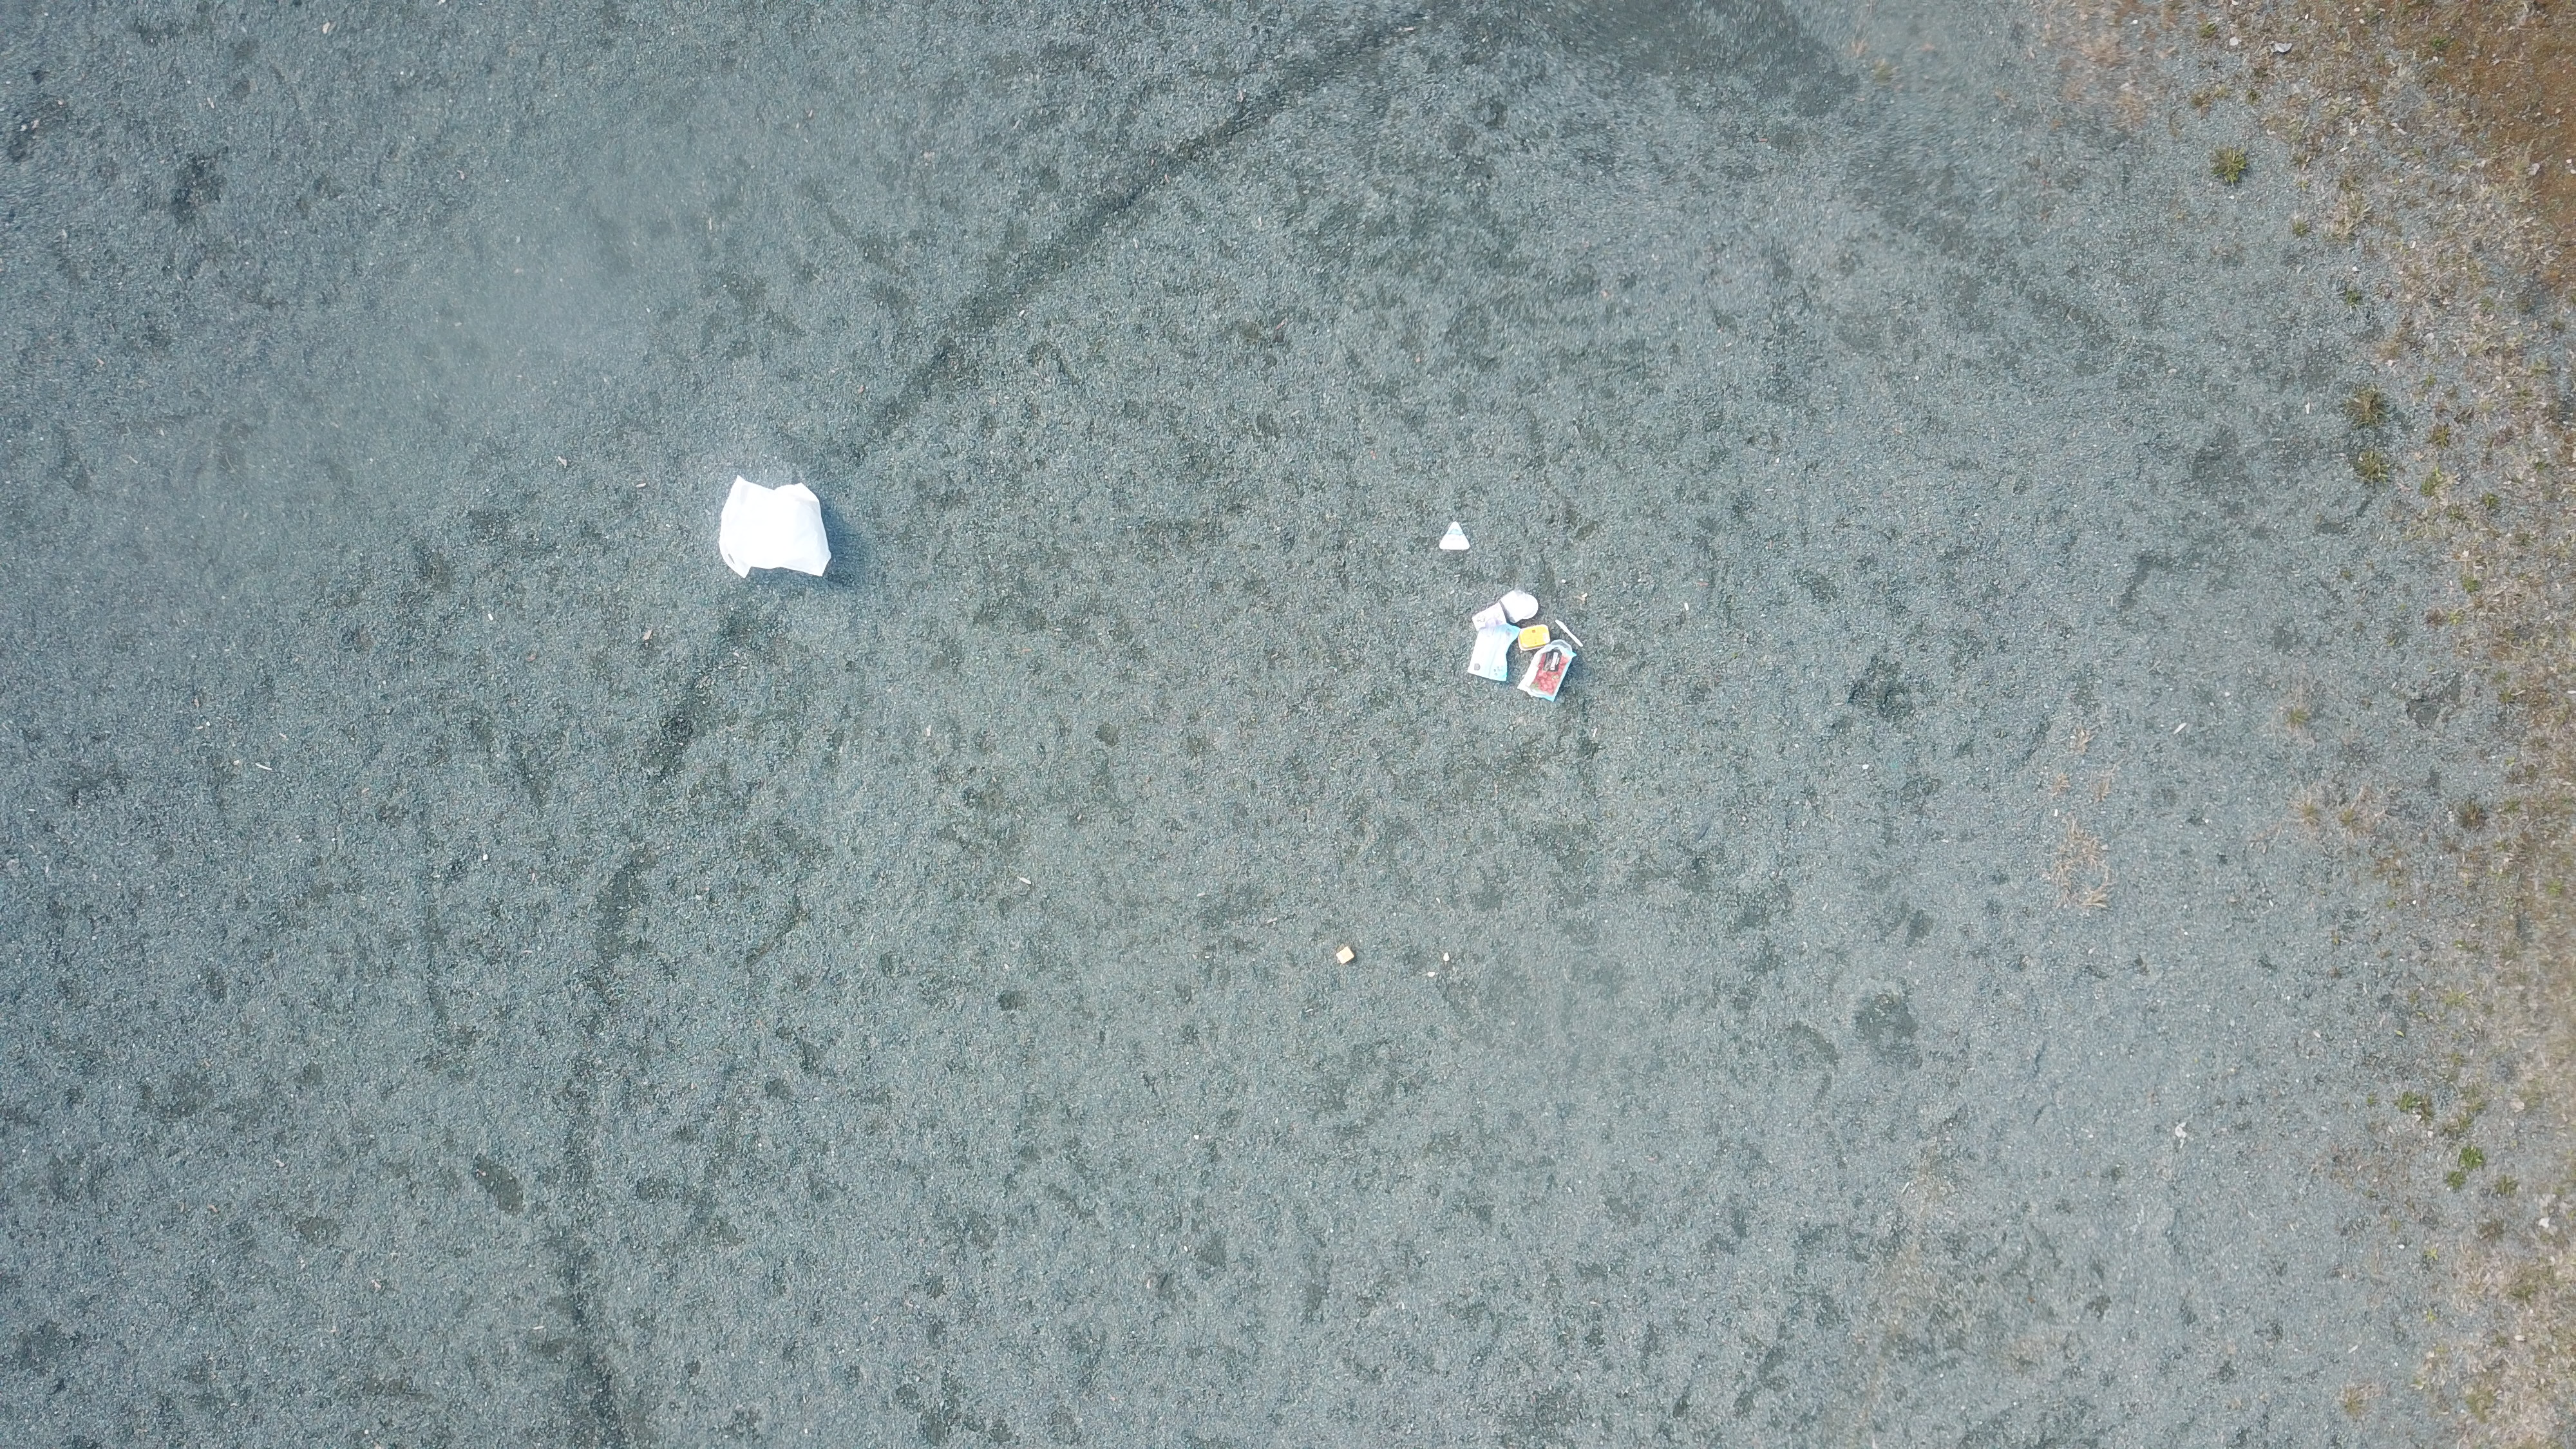Plastic: (720, 476, 840, 579), (1516, 644, 1578, 702), (1467, 623, 1518, 683), (1504, 589, 1539, 623), (1553, 619, 1585, 648), (1518, 623, 1552, 649), (1472, 603, 1506, 630), (1442, 520, 1470, 550), (1336, 947, 1357, 964)
